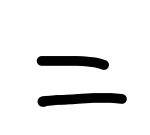eqv: (37, 56, 126, 106)
